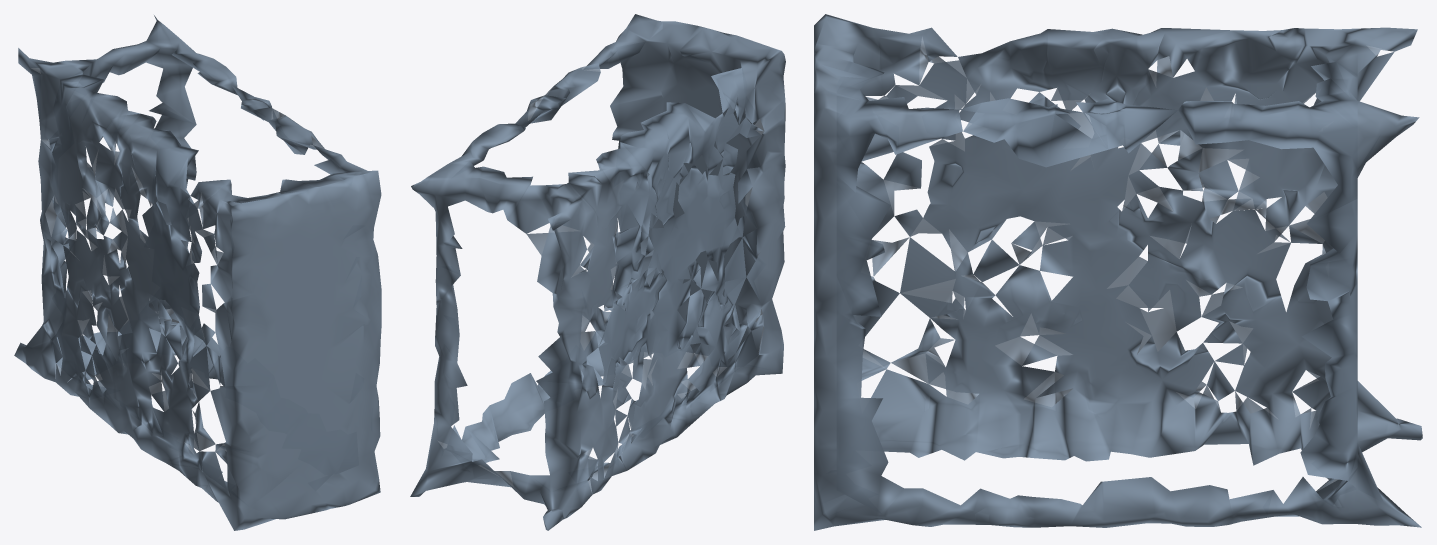
File: dresser_0103_original.obj
3 views of the same model, side by side, from view 1: azimuth 30°, elevation 25°; view 2: azimuth 150°, elevation 25°; view 3: azimuth 270°, elevation 25° (orthographic). The views are drawn at different scales.
Size of the model in its own units: 0.5199 by 1.09 by 1.4.
